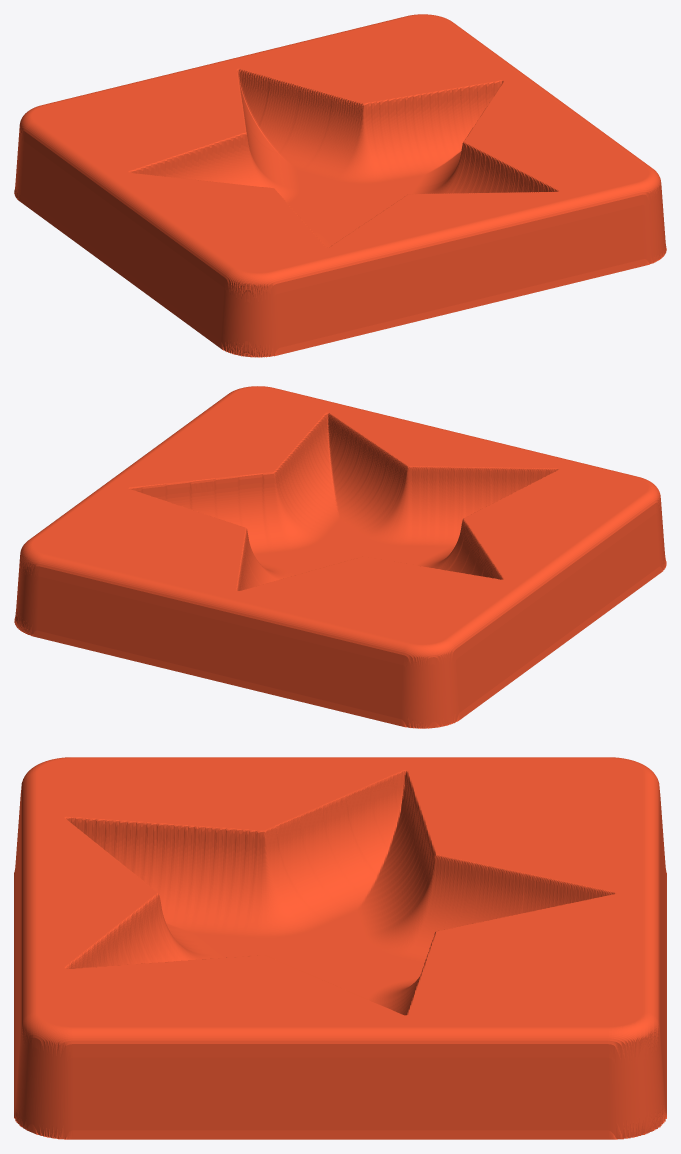
File: mold.glb
The picture shows the model from 3 angles, top to bottom: view 1: azimuth 30°, elevation 25°; view 2: azimuth 150°, elevation 25°; view 3: azimuth 270°, elevation 25°; orthographic projection. The views are drawn at different scales.
Visible parts, largest first — view 1: geometry_0; view 2: geometry_0; view 3: geometry_0.
Part boxes in pixels (left/top/right/bottom): geometry_0: left=14, top=14, right=666, bottom=357; geometry_0: left=14, top=386, right=666, bottom=728; geometry_0: left=14, top=757, right=666, bottom=1139.
Bounding box in the file's own units: 0.105 × 0.0175 × 0.1006.
